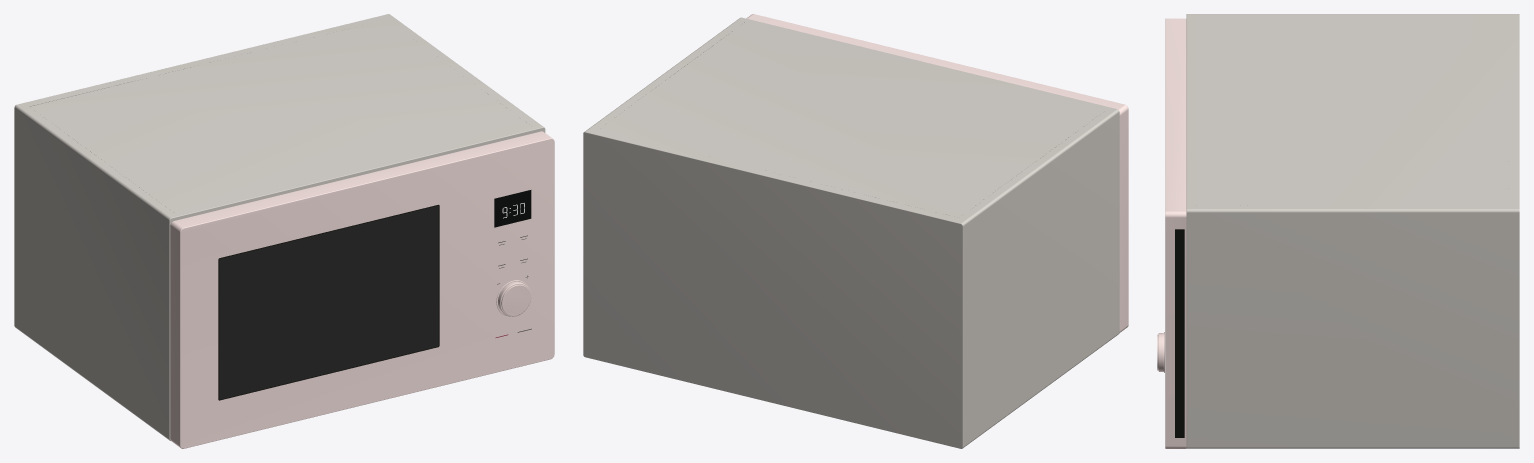
The model's file is MWJ25P.glb.
3 renders of one model, left to right at view 1: azimuth 30°, elevation 25°; view 2: azimuth 150°, elevation 25°; view 3: azimuth 270°, elevation 25°, orthographic. The views are drawn at different scales.
Parts seen in each view (by area): view 1: BodyShell, DoorBody, WindowMesh, WindowRim, ControlDisplay, RotaryKnob; view 2: BodyShell, DoorBody; view 3: BodyShell, DoorBody, Foot_1_1.
Boxes of the visible parts, <box> form: BodyShell: <box>14,14,545,440</box>; DoorBody: <box>170,131,554,448</box>; WindowMesh: <box>219,206,438,399</box>; WindowRim: <box>218,204,439,400</box>; ControlDisplay: <box>494,190,531,227</box>; RotaryKnob: <box>498,281,531,316</box>; BodyShell: <box>583,17,1119,448</box>; DoorBody: <box>746,14,1128,332</box>; BodyShell: <box>1186,14,1519,448</box>; DoorBody: <box>1164,18,1186,448</box>; Foot_1_1: <box>1175,229,1184,437</box>.
Bounding box in the file's own units: 0.476 × 0.272 × 0.37.
11 materials, 1 textured.
